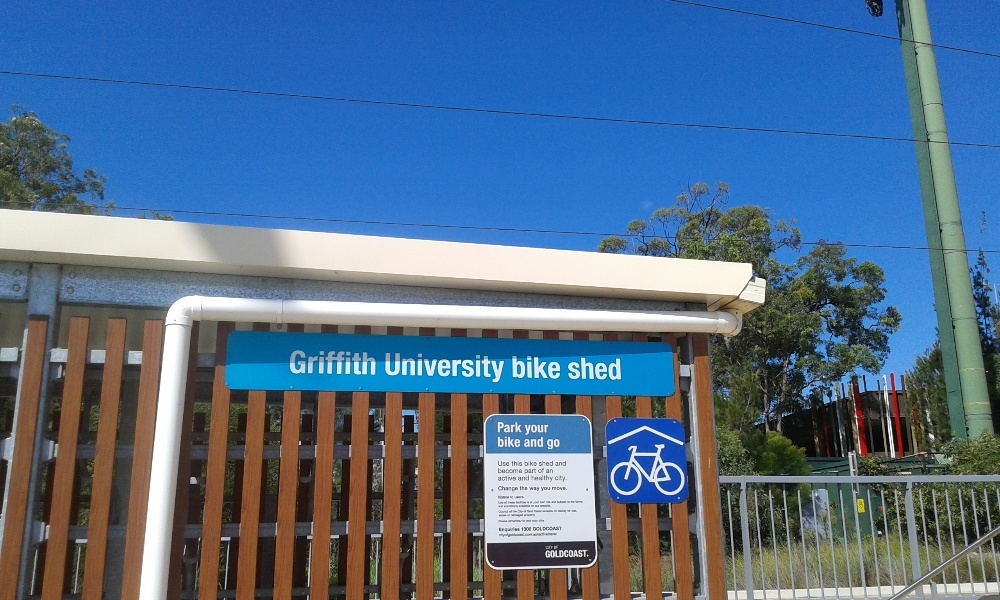text: (385, 351, 400, 384), (401, 351, 416, 384), (417, 351, 432, 384), (433, 351, 448, 384), (449, 351, 464, 384), (465, 351, 480, 384), (481, 351, 496, 384), (513, 354, 528, 380), (529, 354, 544, 380), (545, 354, 560, 380), (289, 350, 304, 376), (305, 350, 320, 376), (321, 350, 336, 376), (337, 350, 352, 376), (353, 350, 368, 376), (577, 357, 592, 381), (593, 357, 608, 381), (609, 357, 623, 381), (497, 351, 507, 384), (369, 350, 378, 376), (529, 423, 544, 436), (497, 436, 512, 449), (568, 357, 576, 381), (529, 436, 545, 448), (497, 422, 512, 434), (546, 438, 560, 450), (545, 549, 560, 558), (561, 549, 576, 558), (513, 422, 523, 434), (513, 436, 522, 449), (577, 549, 590, 558), (497, 460, 512, 467), (531, 475, 544, 483), (498, 475, 512, 482), (497, 468, 512, 474), (513, 532, 528, 538), (529, 532, 544, 538), (498, 486, 512, 492), (530, 486, 544, 492), (498, 532, 512, 538), (545, 532, 558, 538), (513, 460, 524, 467), (513, 513, 528, 518), (545, 526, 560, 531), (545, 545, 560, 550), (545, 475, 554, 483), (546, 469, 560, 474), (498, 513, 512, 518), (545, 423, 550, 436), (499, 527, 512, 532), (529, 468, 537, 476), (529, 460, 538, 467), (523, 436, 528, 448), (513, 468, 523, 474), (518, 476, 528, 482), (498, 495, 512, 499), (498, 501, 512, 505), (533, 526, 544, 531), (545, 461, 554, 467), (561, 354, 563, 380), (524, 423, 528, 436), (499, 505, 512, 509), (499, 520, 512, 524), (516, 501, 528, 505), (532, 520, 544, 524), (551, 486, 560, 491), (513, 510, 528, 513), (517, 510, 528, 514), (561, 461, 568, 467), (561, 476, 567, 483), (530, 501, 544, 504), (498, 510, 512, 513), (520, 486, 528, 491), (534, 501, 544, 505), (504, 504, 512, 509), (513, 527, 521, 532), (515, 496, 528, 499), (531, 505, 544, 508), (538, 461, 544, 467), (538, 468, 544, 474), (513, 486, 519, 492), (545, 486, 551, 492), (545, 510, 554, 514), (513, 520, 522, 524), (555, 476, 560, 483), (561, 486, 568, 491), (529, 513, 536, 518), (521, 527, 528, 532), (524, 468, 528, 476), (504, 501, 512, 505), (534, 510, 544, 513), (554, 545, 560, 550), (524, 460, 528, 467), (513, 475, 517, 482), (545, 504, 552, 508), (551, 501, 560, 504), (567, 501, 576, 504), (519, 505, 528, 508), (535, 505, 544, 508), (567, 510, 576, 513), (511, 354, 512, 380), (513, 504, 518, 509), (556, 461, 560, 467), (540, 486, 544, 492), (561, 501, 567, 505), (561, 510, 567, 514), (522, 520, 528, 524), (538, 519, 544, 523), (545, 501, 552, 504), (507, 501, 512, 505), (571, 509, 576, 513), (529, 527, 533, 532), (570, 501, 576, 504), (577, 501, 583, 504), (554, 510, 560, 513), (540, 504, 544, 508), (508, 520, 512, 524), (539, 501, 544, 504), (529, 510, 534, 513), (561, 438, 562, 450), (513, 501, 516, 505), (557, 501, 560, 505), (524, 510, 528, 513), (557, 510, 560, 514), (509, 510, 512, 513), (529, 520, 532, 523), (510, 495, 512, 499), (513, 495, 515, 499), (529, 476, 530, 482), (529, 505, 531, 508), (526, 520, 528, 523), (561, 526, 562, 531), (543, 510, 544, 514), (577, 509, 578, 513), (527, 501, 528, 504), (529, 501, 530, 504), (575, 501, 576, 504), (527, 510, 528, 513)
